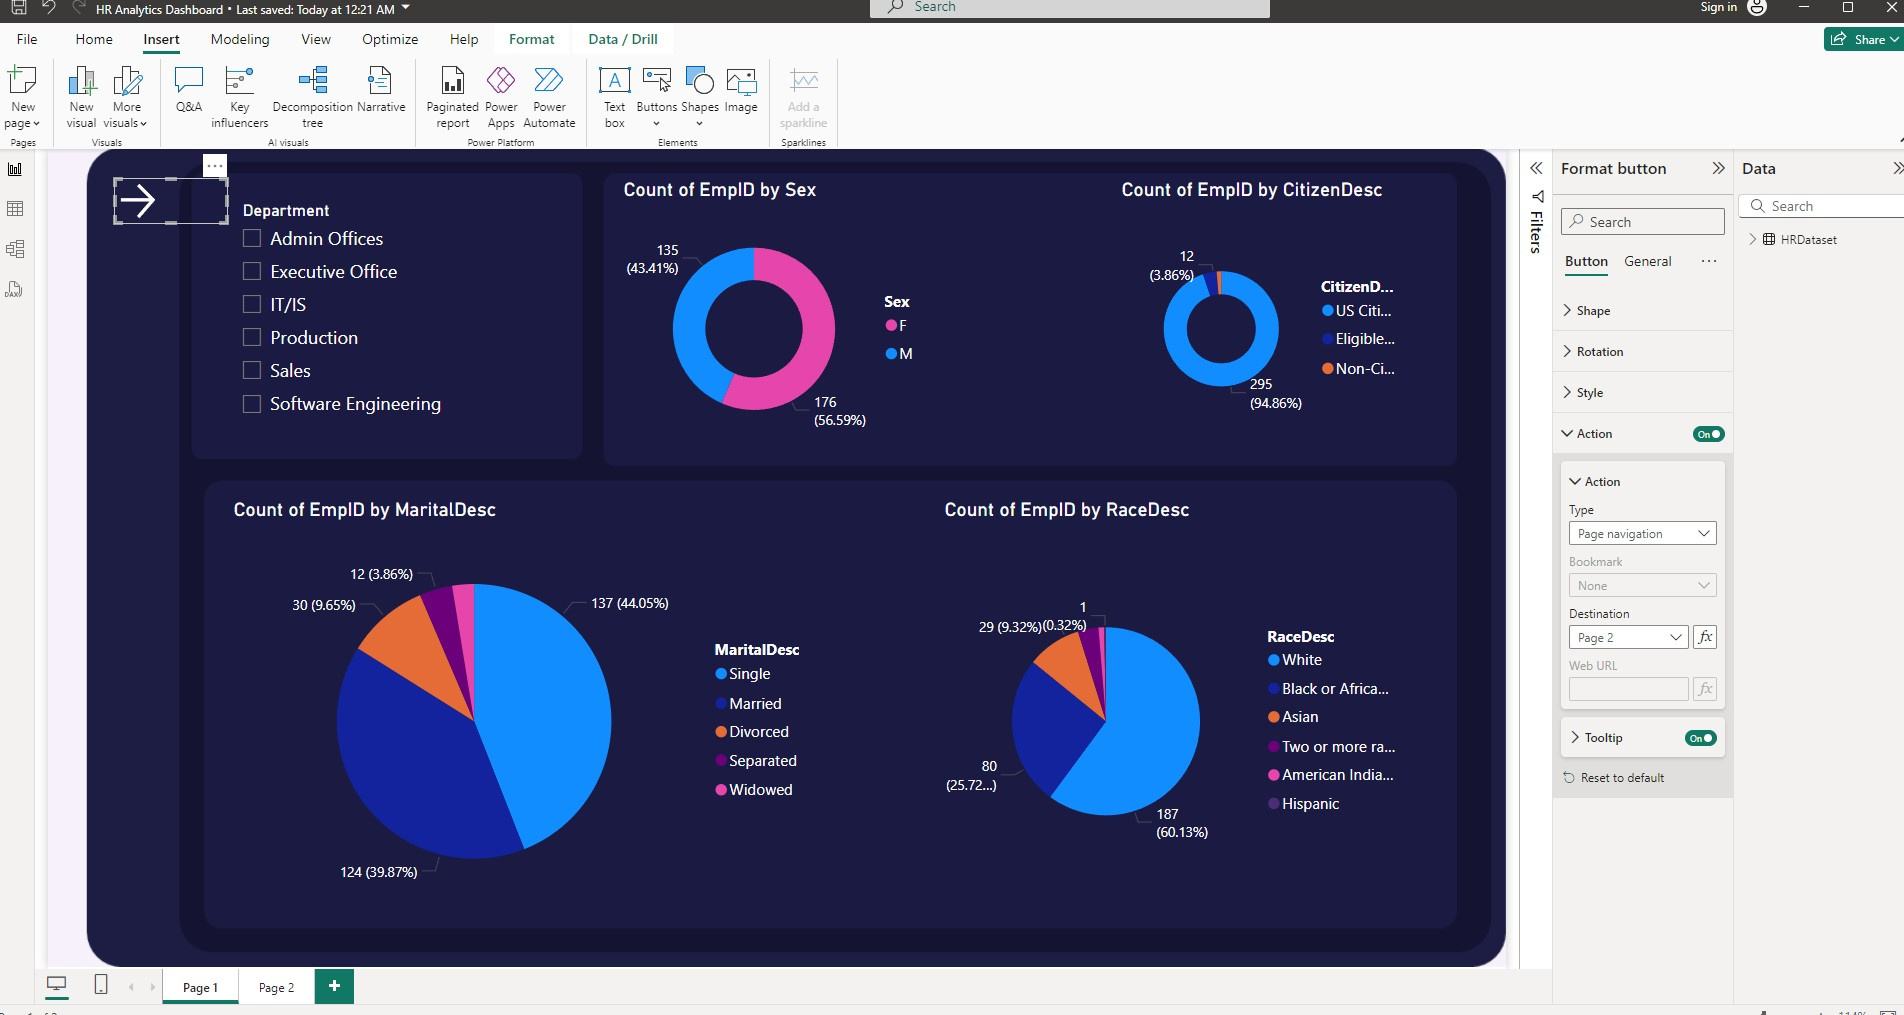

Layout of this report page (visuals, bound fields, positions):
{"tool":"powerbi","page":{"name":"Page 1","canvas":[1280,720],"ordinal":0},"visuals":[{"type":"donutChart","fields":{"Y":["CountNonNull(HRDataset.EmpID)"],"Category":["HRDataset.Sex"]},"box":[500.5,25.5,281.9,245.9],"z":0},{"type":"pieChart","fields":{"Y":["CountNonNull(HRDataset.EmpID)"],"Category":["HRDataset.MaritalDesc"]},"box":[158,306.4,524.2,373.2],"z":1000},{"type":"donutChart","fields":{"Y":["CountNonNull(HRDataset.EmpID)"],"Category":["HRDataset.CitizenDesc"]},"box":[937.8,25.5,259.9,245.9],"z":2000},{"type":"pieChart","fields":{"Y":["CountNonNull(HRDataset.EmpID)"],"Category":["HRDataset.RaceDesc"]},"box":[782.3,306.4,415.3,373.2],"z":3000},{"type":"slicer","fields":{"Values":["HRDataset.Department"]},"box":[158,40.4,281.9,246.7],"z":4000},{"type":"actionButton","box":[58,25.5,100.1,40.4],"z":4001}]}

Visuals, with their boxes on the page's 1280x720 design canvas (x1, y1, x2, y2). These are canvas units, not pixel positions in the 1904x1015 screenshot, which may show the page scaled, cropped or inside an application window:
donutChart - CountNonNull(HRDataset.EmpID) x HRDataset.Sex: (x1=500, y1=26, x2=782, y2=271)
pieChart - CountNonNull(HRDataset.EmpID) x HRDataset.MaritalDesc: (x1=158, y1=306, x2=682, y2=680)
donutChart - CountNonNull(HRDataset.EmpID) x HRDataset.CitizenDesc: (x1=938, y1=26, x2=1198, y2=271)
pieChart - CountNonNull(HRDataset.EmpID) x HRDataset.RaceDesc: (x1=782, y1=306, x2=1198, y2=680)
slicer - HRDataset.Department: (x1=158, y1=40, x2=440, y2=287)
actionButton: (x1=58, y1=26, x2=158, y2=66)
